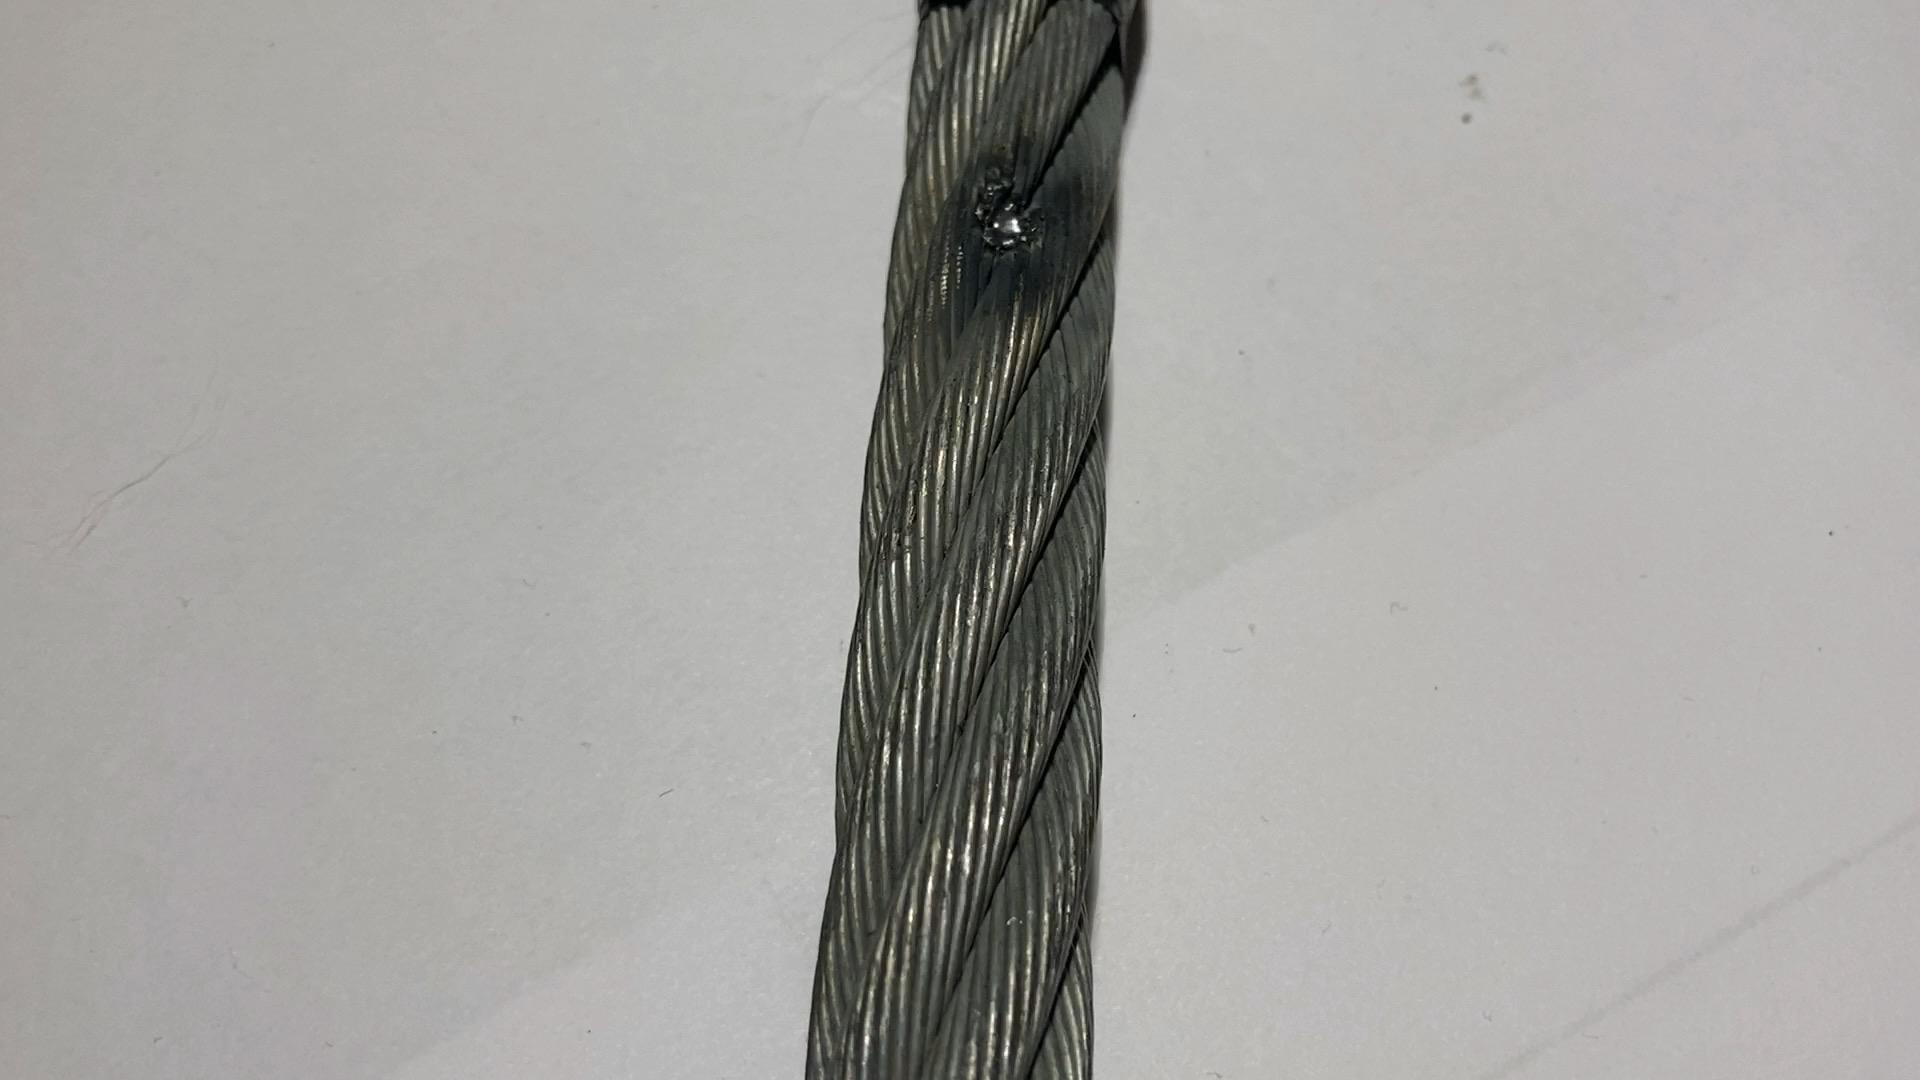thunderbolt: (938, 187, 1044, 260)
